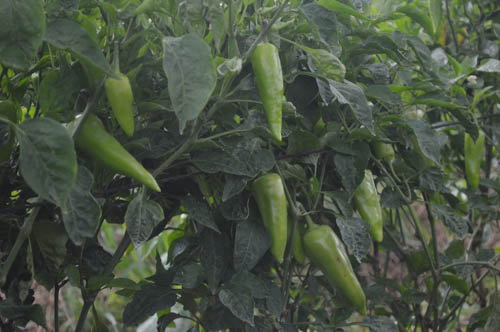ChiliPepper: (73, 117, 161, 193), (307, 226, 372, 312), (251, 175, 289, 266), (252, 43, 285, 142), (355, 171, 383, 243), (106, 77, 139, 133), (464, 126, 482, 190)
